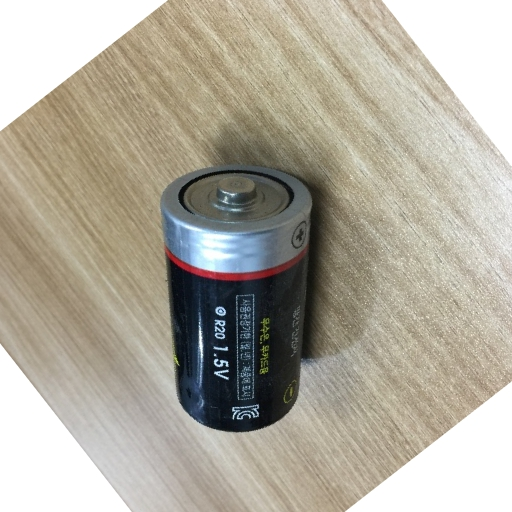Battery_0: (152, 145, 332, 430)
